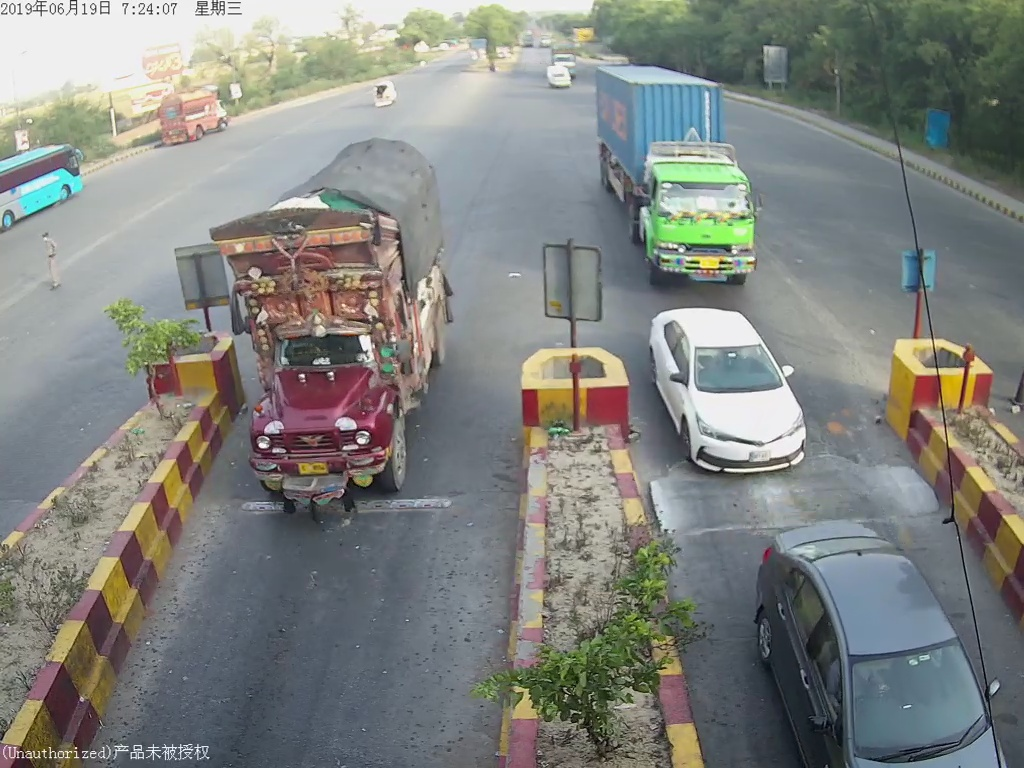Cat-1: (752, 517, 1013, 768), (643, 312, 826, 481)
Cat-4: (209, 133, 453, 538)
Cat-5: (590, 59, 777, 293)
